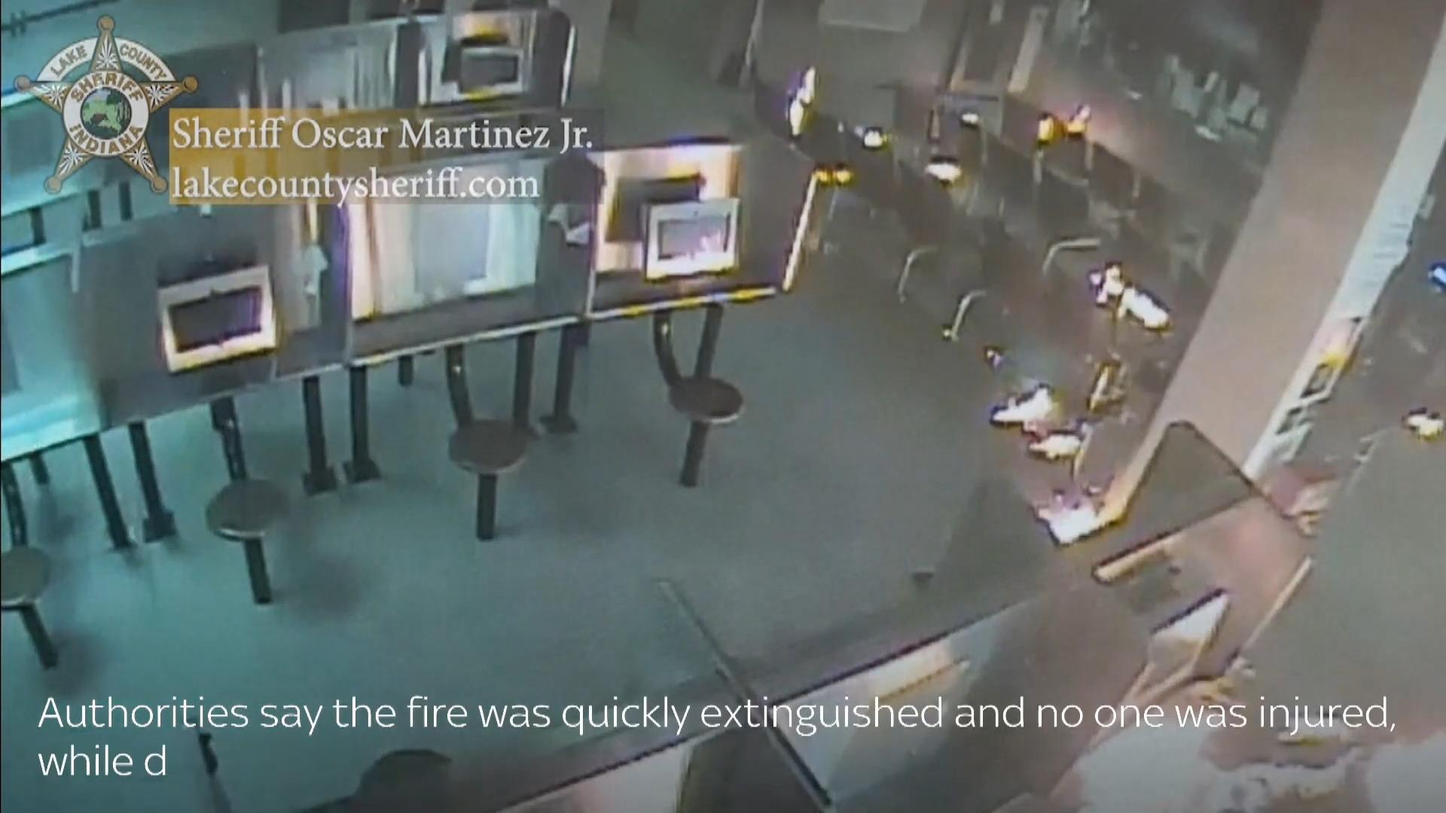fire: (1081, 712, 1446, 813), (992, 384, 1081, 460), (1089, 260, 1171, 329), (1035, 484, 1108, 544)
